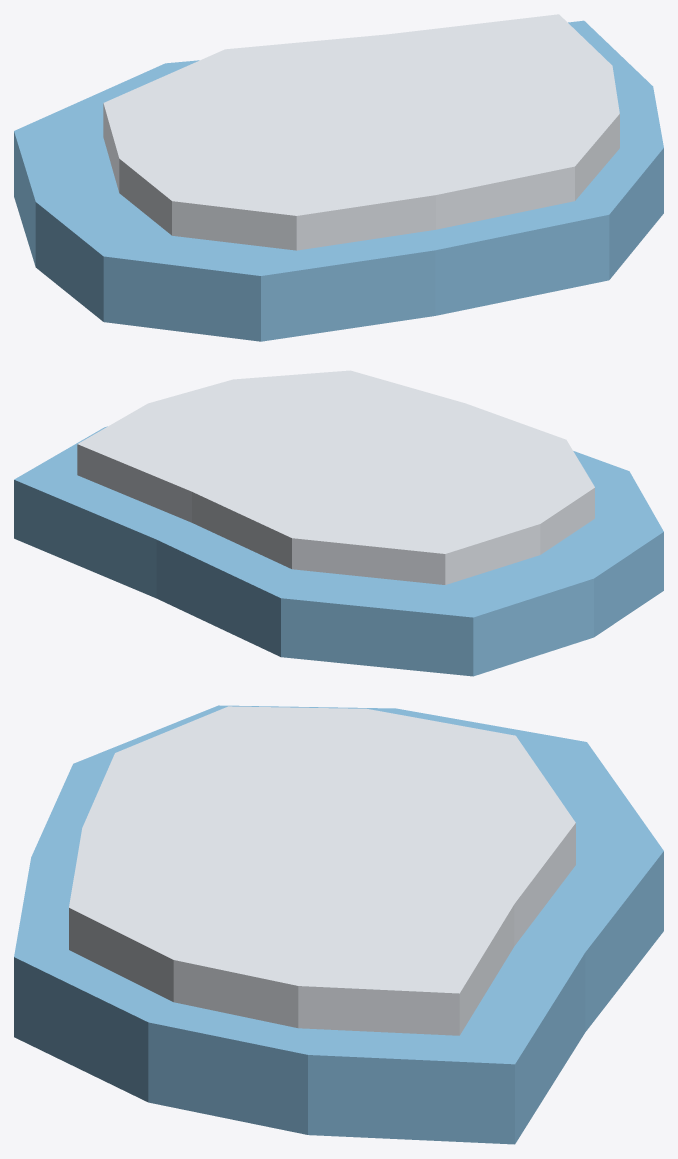
The model's file is SpleefFloe.obj.
3 views of the same model, one above another, from view 1: azimuth 30°, elevation 25°; view 2: azimuth 150°, elevation 25°; view 3: azimuth 270°, elevation 25° (orthographic). The views are drawn at different scales.
Visible parts, largest first — view 1: Snow, Ice; view 2: Snow, Ice; view 3: Snow, Ice.
Part boxes in pixels (left/top/right/bottom): Snow: left=103, top=14, right=619, bottom=250; Ice: left=14, top=20, right=663, bottom=341; Snow: left=77, top=370, right=594, bottom=584; Ice: left=14, top=426, right=663, bottom=676; Snow: left=69, top=706, right=575, bottom=1035; Ice: left=14, top=705, right=663, bottom=1144.
Size of the model in its own units: 8.64 by 1.38 by 6.61.
